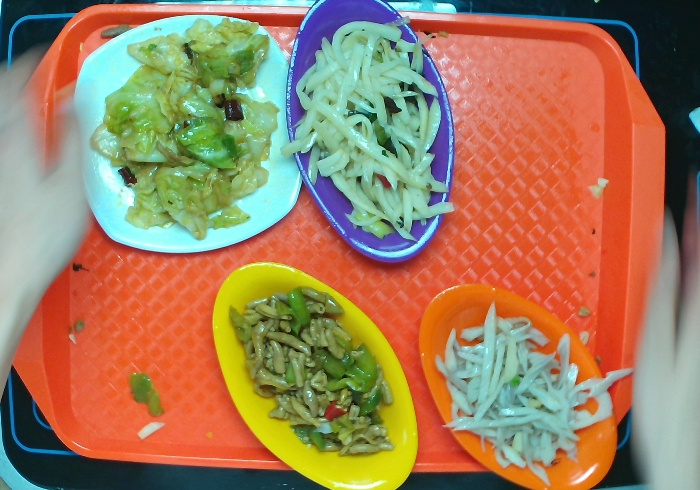RJxy-Fen_Hong_Tuo_Yuan: (284, 1, 461, 267)
RJxy-Huang_Se_Tuo_Yuan: (209, 257, 426, 488)
RJxy-Ju_Huang_Tuo_Yuan: (410, 282, 622, 487)
RJxy-Si_Fang_Die: (60, 11, 305, 260)
